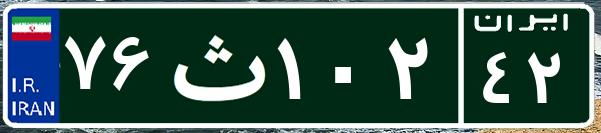0: (330, 28, 385, 110)
1: (273, 28, 330, 110)
2: (385, 28, 445, 110), (525, 38, 570, 115)
4: (475, 38, 525, 113)
6: (110, 28, 158, 105)
7: (57, 26, 110, 107)
ث: (158, 15, 273, 115)
